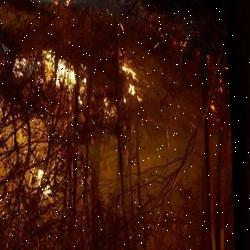fire: (5, 50, 96, 110), (118, 58, 148, 109)
